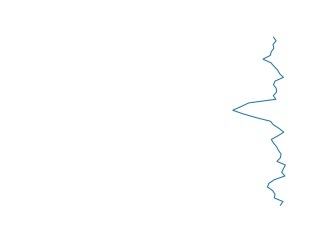interdistributaryEstuary: (232, 37, 293, 205)
